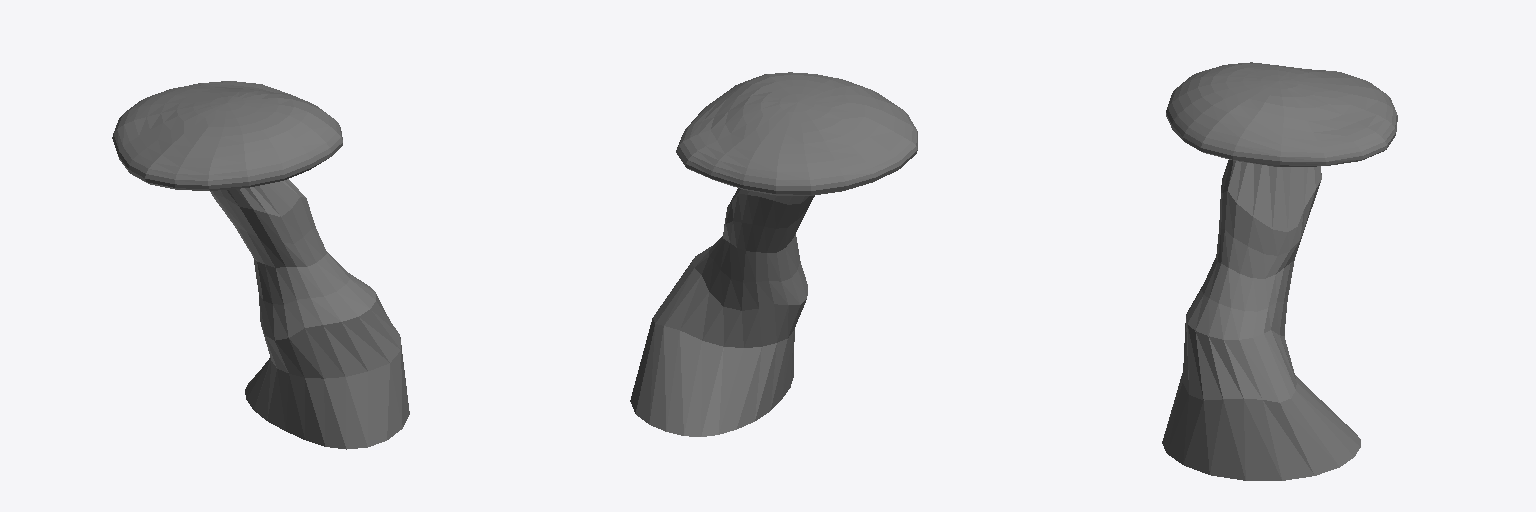
Rendered from mushroom.obj.
3 views of the same model, side by side, from view 1: azimuth 30°, elevation 25°; view 2: azimuth 150°, elevation 25°; view 3: azimuth 270°, elevation 25° (orthographic).
Visible parts, largest first — view 1: Mushroom_LP_meshId0_name.001; view 2: Mushroom_LP_meshId0_name.001; view 3: Mushroom_LP_meshId0_name.001.
Part boxes in pixels (x1,y1,x2,y2): Mushroom_LP_meshId0_name.001: (112,81,409,449); Mushroom_LP_meshId0_name.001: (630,72,917,436); Mushroom_LP_meshId0_name.001: (1162,62,1397,480).
Bounding box in the file's own units: 0.3384 × 0.4 × 0.2651.